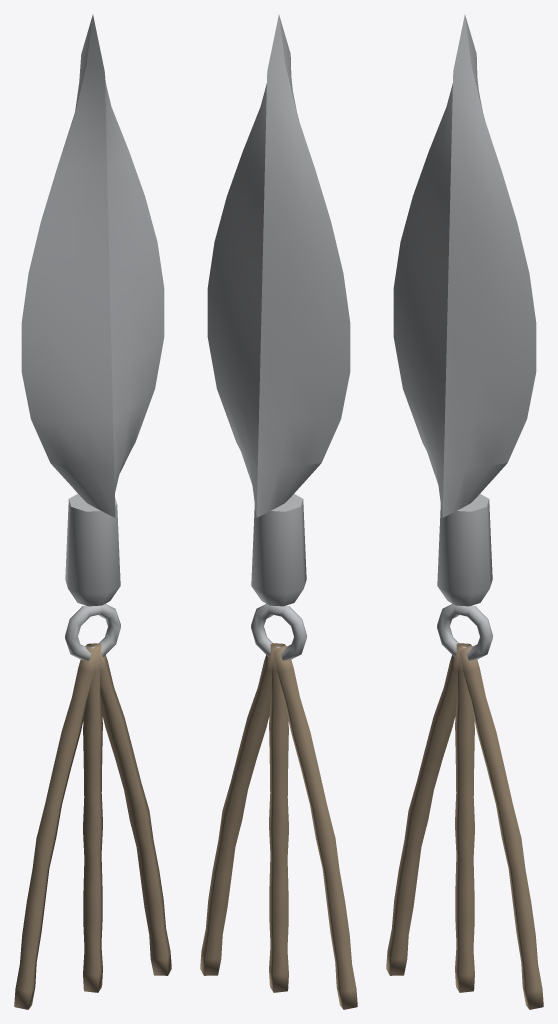
The model's file is wushu-dart.glb.
3 renders of one model, left to right at view 1: azimuth 30°, elevation 25°; view 2: azimuth 150°, elevation 25°; view 3: azimuth 330°, elevation 25°, orthographic.
Visible parts, largest first — view 1: wushu-dart; view 2: wushu-dart; view 3: wushu-dart.
Part boxes in pixels (x1,y1,x2,y2): wushu-dart: (14,15,171,1009); wushu-dart: (200,15,357,1009); wushu-dart: (386,15,543,1009).
Bounding box in the file's own units: 0.1015 × 0.6008 × 0.05.
